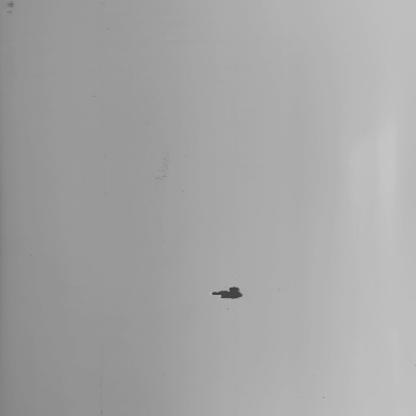kongdong: (203, 278, 256, 303)
